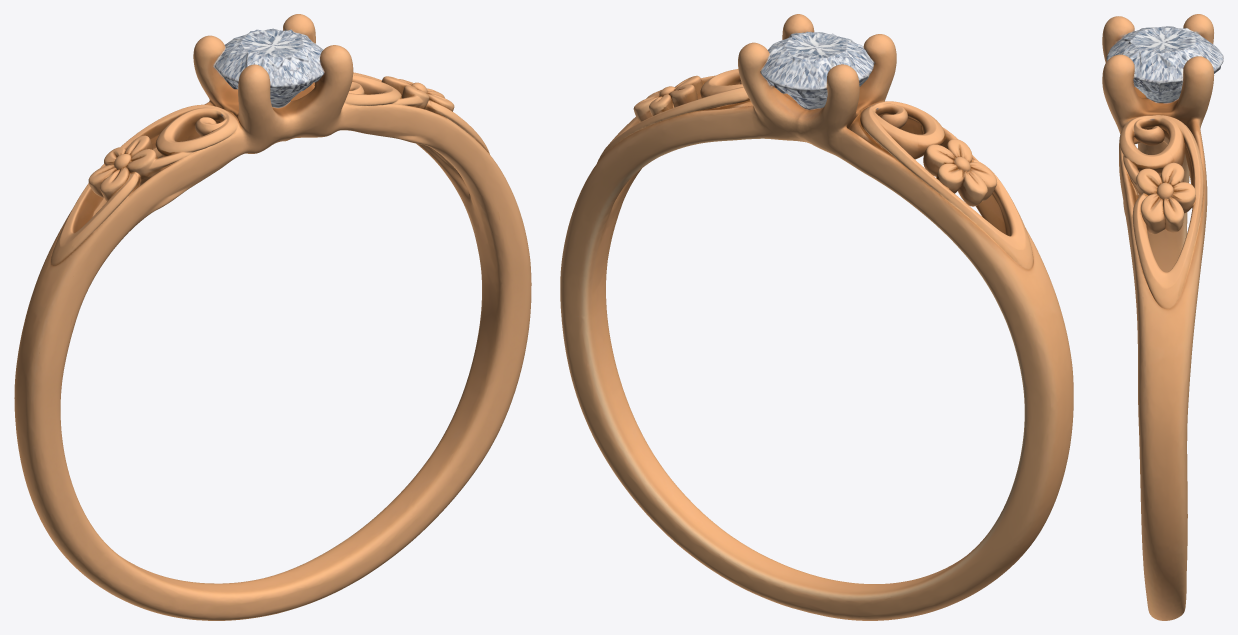
Rendered from solitaire3_smooth.glb.
3 renders of one model, left to right at view 1: azimuth 30°, elevation 25°; view 2: azimuth 150°, elevation 25°; view 3: azimuth 270°, elevation 25°, orthographic. The views are drawn at different scales.
Bounding box in the file's own units: 1.75 × 1.9 × 0.3755.
Materials: 1 (1 with a texture image).
